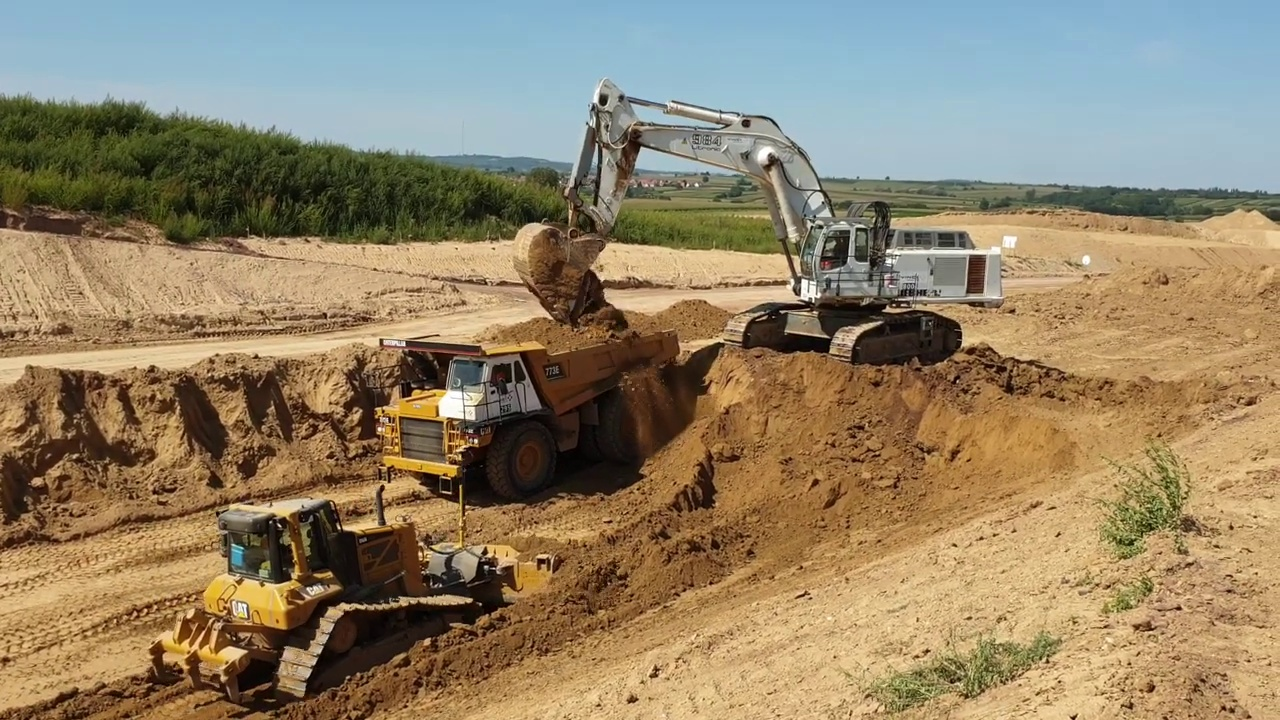bulldozer: (149, 445, 563, 712)
excavator: (508, 74, 1009, 368)
truck: (370, 317, 687, 506)
